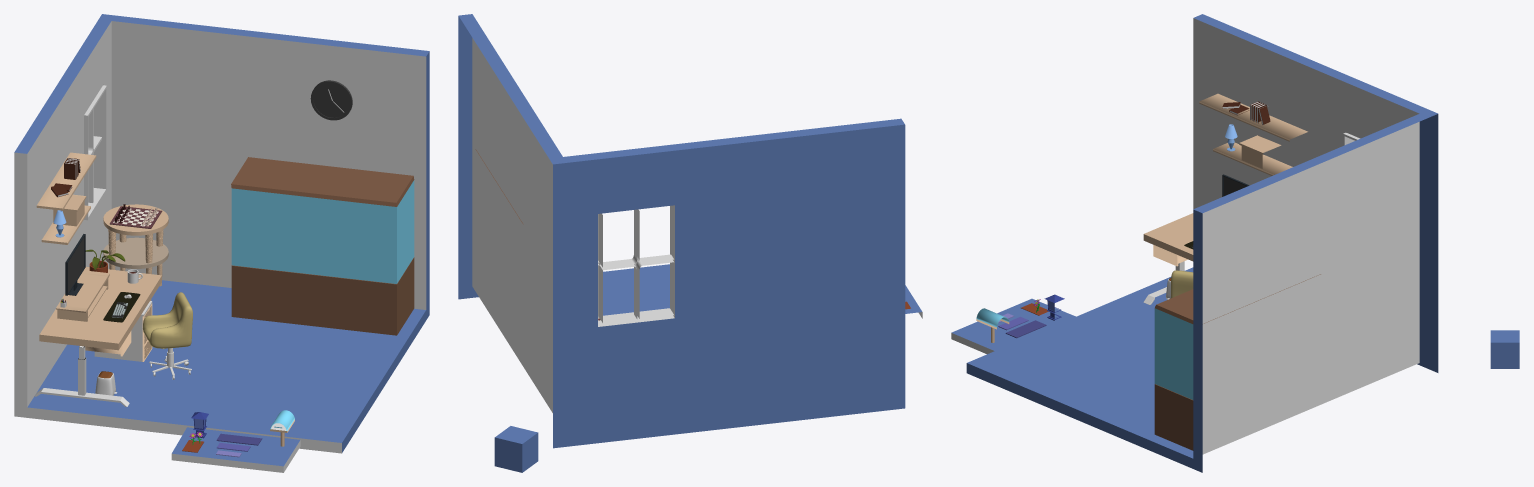
Rendered from RoomV5.glb.
3 views of the same model, side by side, from view 1: azimuth 30°, elevation 25°; view 2: azimuth 150°, elevation 25°; view 3: azimuth 270°, elevation 25° (orthographic). The views are drawn at different scales.
Visible parts, largest first — view 1: Body, Aquarium, Desks, Mini floor, Shelves, Table stuff, Chair, Floor things, Clock, Computer, Chess, Mail box; view 2: Body, Cube; view 3: Body, Aquarium, Shelves, Mini floor, Desks, Cube.
Boxes of the visible parts, x1,y1,x2,y2 form: Body: (14,14,429,453); Aquarium: (231,157,414,335); Desks: (34,204,168,406); Mini floor: (171,427,300,472); Shelves: (36,152,96,244); Table stuff: (56,249,140,322); Chair: (143,292,192,348); Floor things: (94,301,191,395); Clock: (310,80,352,120); Computer: (65,234,85,295); Chess: (109,204,162,228); Mail box: (270,410,294,446); Body: (458,14,905,448); Cube: (494,426,538,472); Body: (966,14,1438,472); Aquarium: (1154,274,1320,450); Shelves: (1199,93,1307,175); Mini floor: (951,298,1075,354); Desks: (1143,213,1193,304); Cube: (1490,330,1519,368).
Size of the model in its own units: 14.38 by 8.73 by 17.33.
